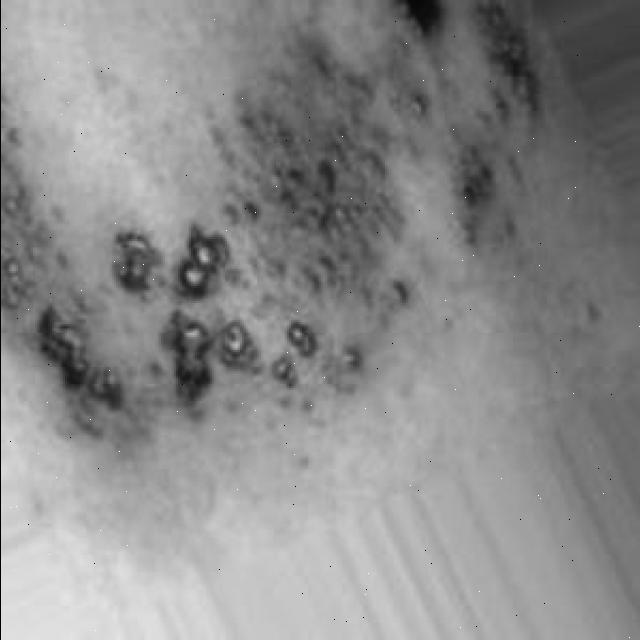Shingles: (37, 36, 417, 432), (447, 0, 545, 254)
